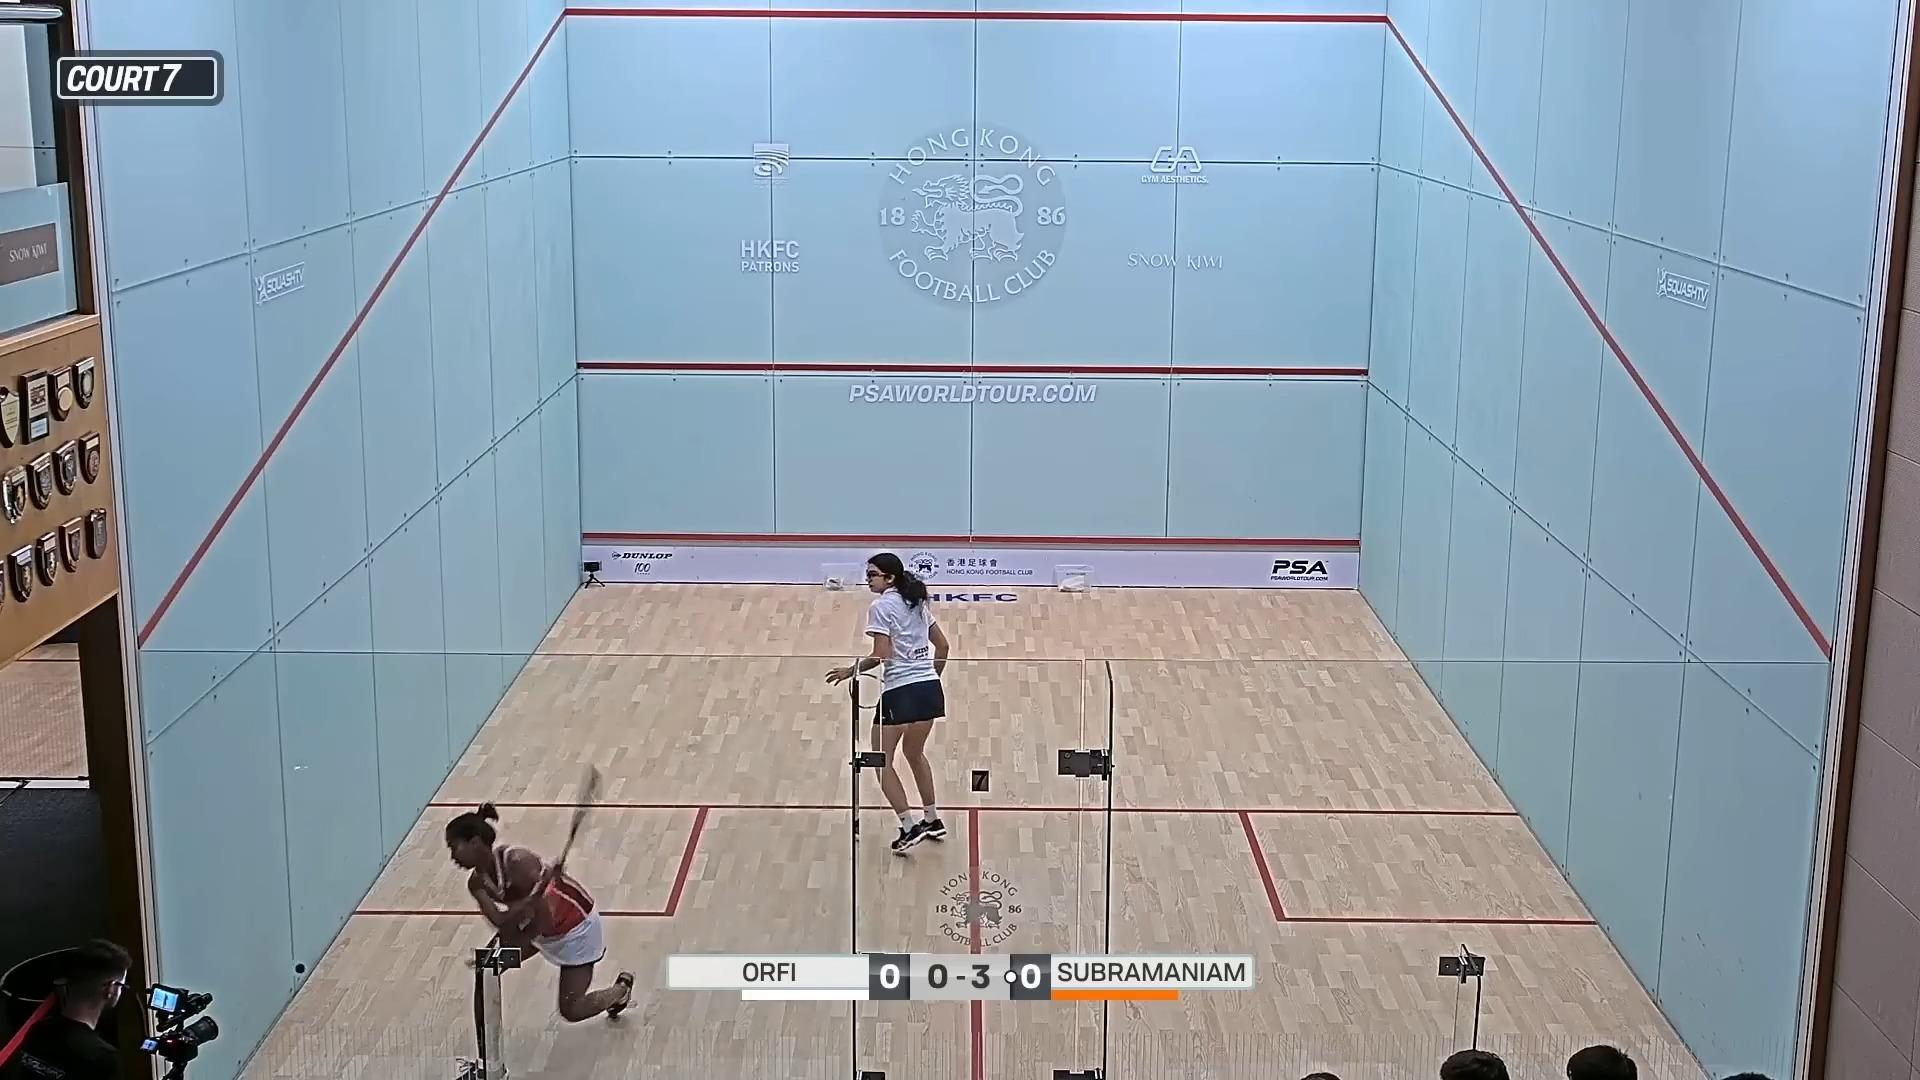Squash-Ball: (284, 949, 316, 990)
